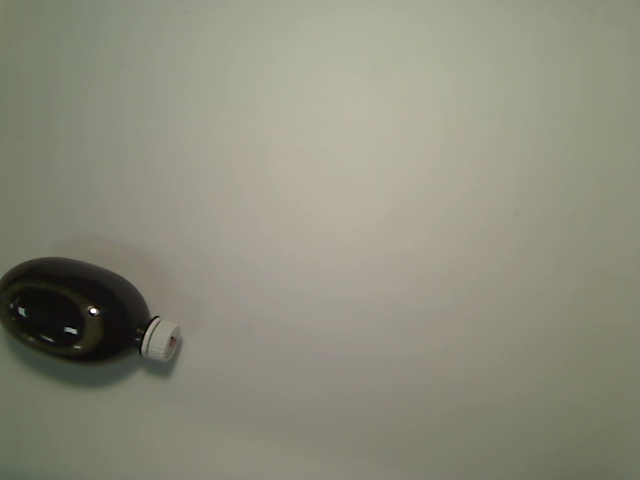plast_bottle: (1, 254, 183, 369)
